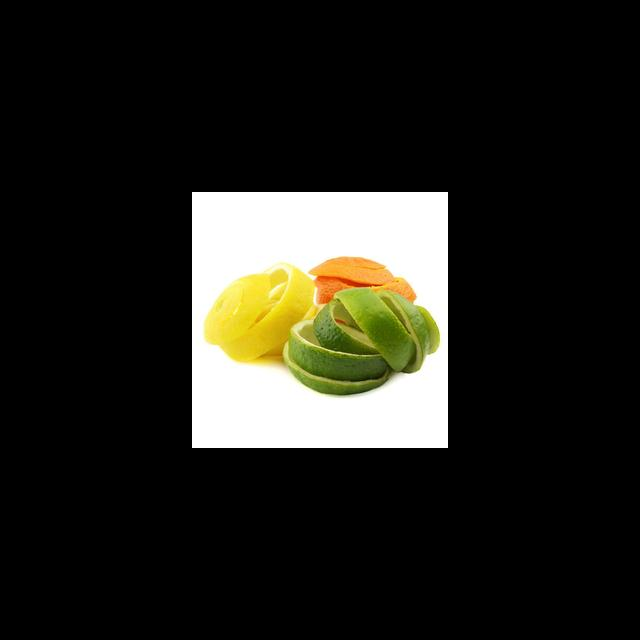food_waste: (207, 257, 439, 397)
